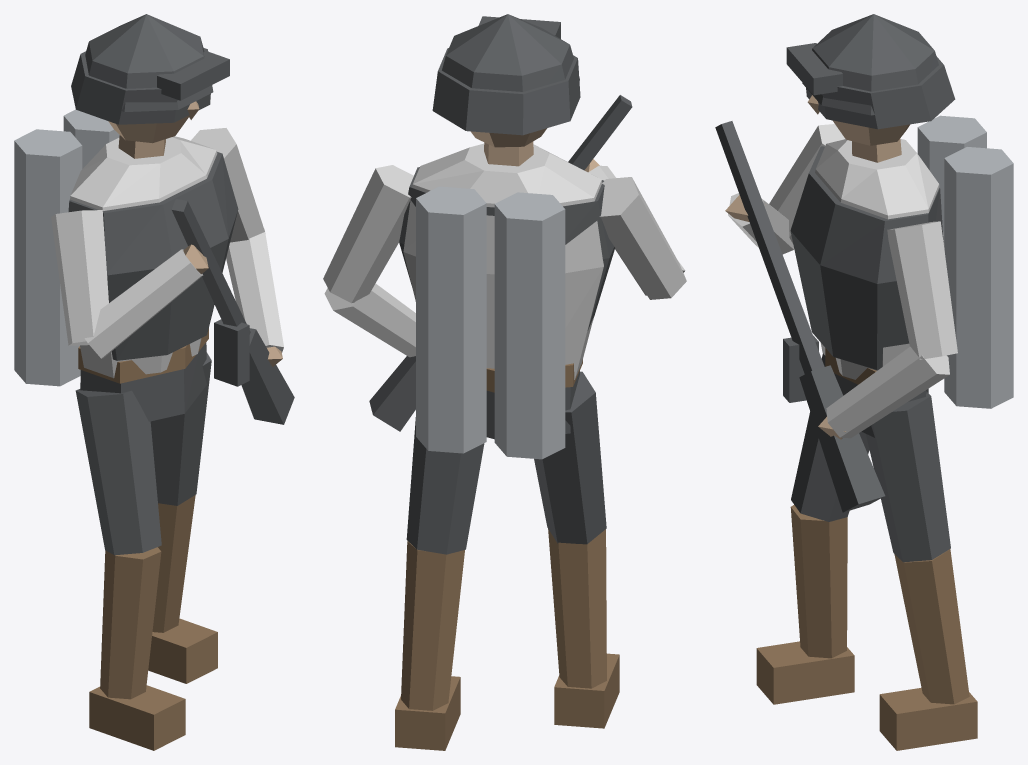
File: xcom-squad.glb
The picture shows the model from 3 angles, left to right: view 1: azimuth 30°, elevation 25°; view 2: azimuth 150°, elevation 25°; view 3: azimuth 270°, elevation 25°; orthographic projection. The views are drawn at different scales.
Parts seen in each view (by area): view 1: LOD0; view 2: LOD0; view 3: LOD0.
Part boxes in pixels (bbox=[...]): LOD0: bbox=[14, 14, 294, 750]; LOD0: bbox=[323, 14, 686, 750]; LOD0: bbox=[715, 14, 1013, 750].
Size of what is drawn, in the model's own units: 0.4042 by 0.981 by 0.3814.
